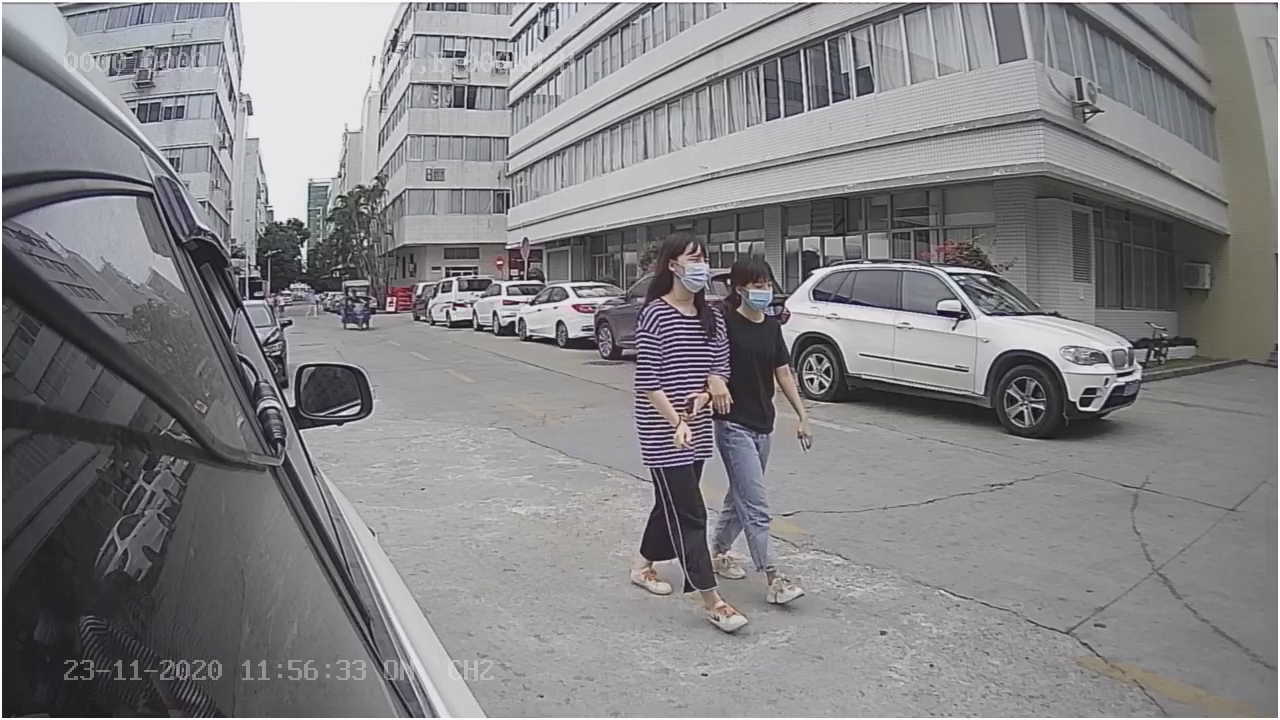person: (626, 225, 749, 638), (710, 257, 813, 610)
